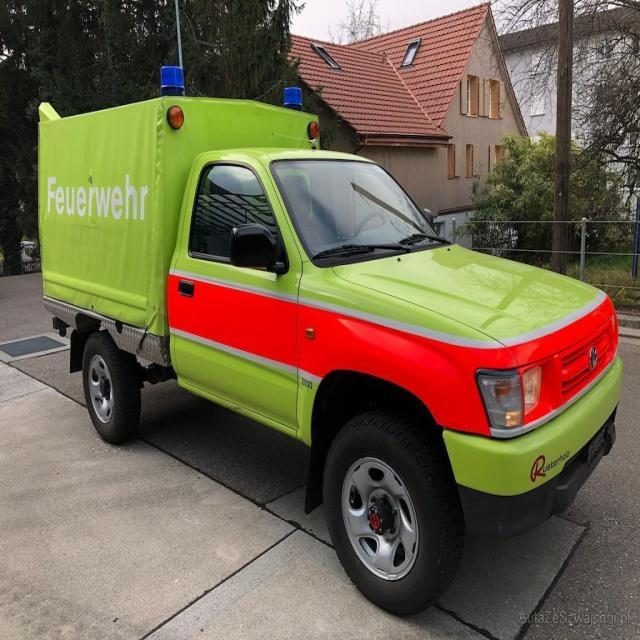light_vehicle: (33, 79, 639, 608)
